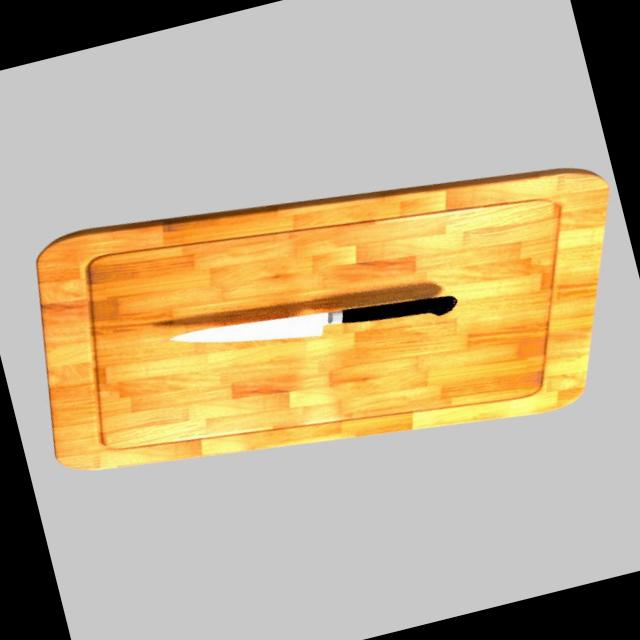knife: (337, 282, 459, 340)
